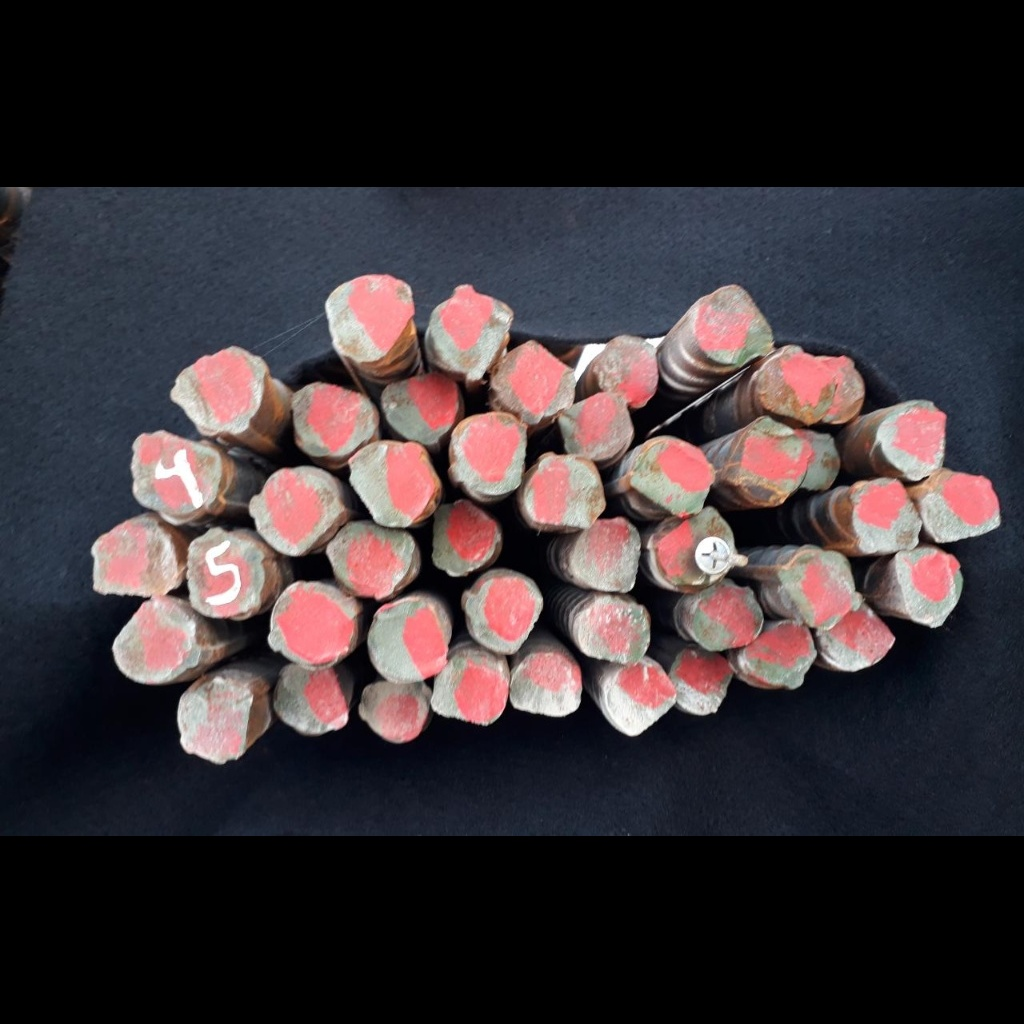dipstick: (170, 345, 267, 438), (129, 427, 223, 520), (427, 282, 513, 382), (250, 471, 348, 555), (110, 598, 203, 685), (347, 441, 441, 527), (267, 582, 364, 664), (326, 274, 413, 362), (185, 525, 264, 619), (492, 338, 576, 425), (327, 518, 415, 599), (177, 676, 255, 766), (779, 553, 865, 632), (290, 382, 378, 459), (90, 524, 179, 599), (757, 345, 838, 427), (369, 598, 448, 682), (464, 576, 544, 656), (696, 285, 775, 365), (629, 441, 713, 516), (656, 510, 735, 589), (922, 465, 1003, 541), (738, 420, 811, 504), (272, 660, 351, 735), (525, 454, 605, 528), (814, 599, 896, 669), (429, 652, 507, 725), (449, 418, 528, 490), (878, 400, 947, 482), (381, 370, 458, 443), (433, 498, 503, 578), (893, 548, 963, 627), (606, 660, 679, 735), (851, 477, 923, 553), (744, 619, 818, 691), (569, 520, 640, 593), (557, 393, 634, 460), (579, 594, 653, 661), (597, 333, 661, 407), (694, 586, 764, 651), (510, 653, 582, 716), (359, 682, 430, 741), (671, 649, 733, 713), (817, 351, 866, 423), (799, 431, 840, 489)
